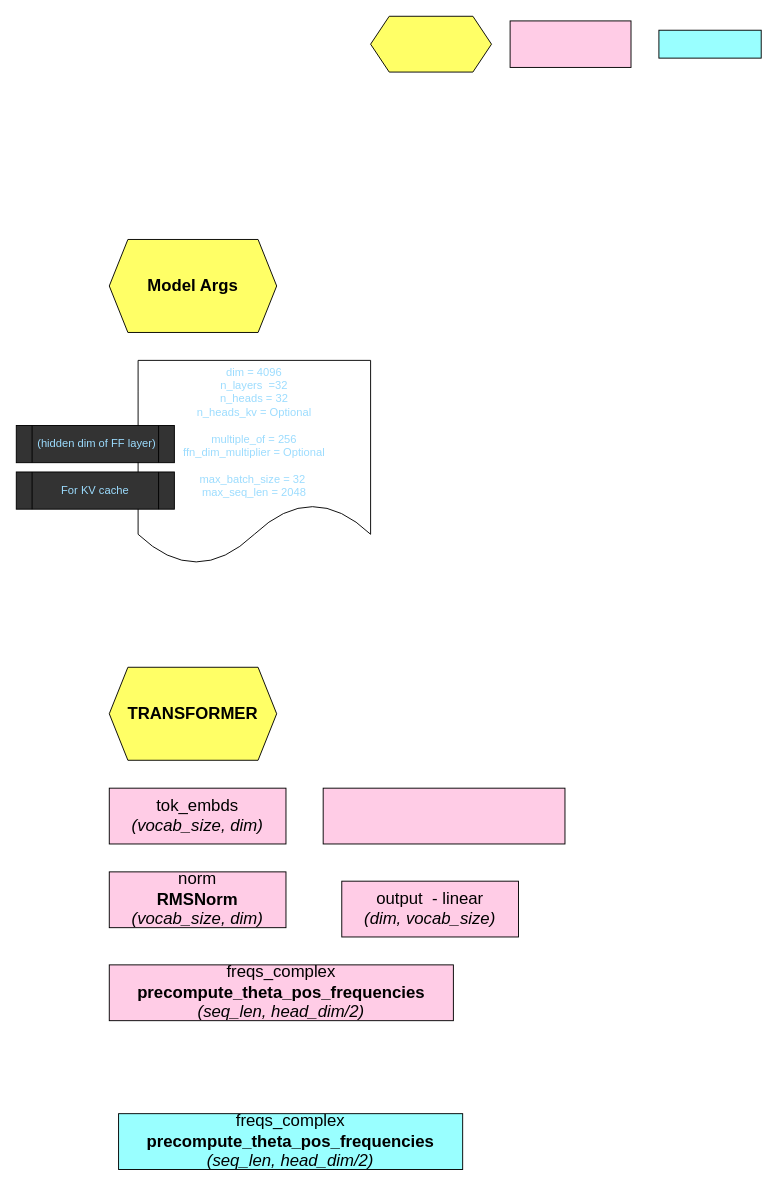
Some shapes in this 777 by 1188 pixel diagram are drawn without their labels. Each missing label, with the box of its shape:
Big module: (370, 15, 492, 72)
forward: (658, 29, 761, 58)
Init: (509, 20, 631, 67)
layers (n_layers times) EncoderBlock: (322, 787, 565, 844)
